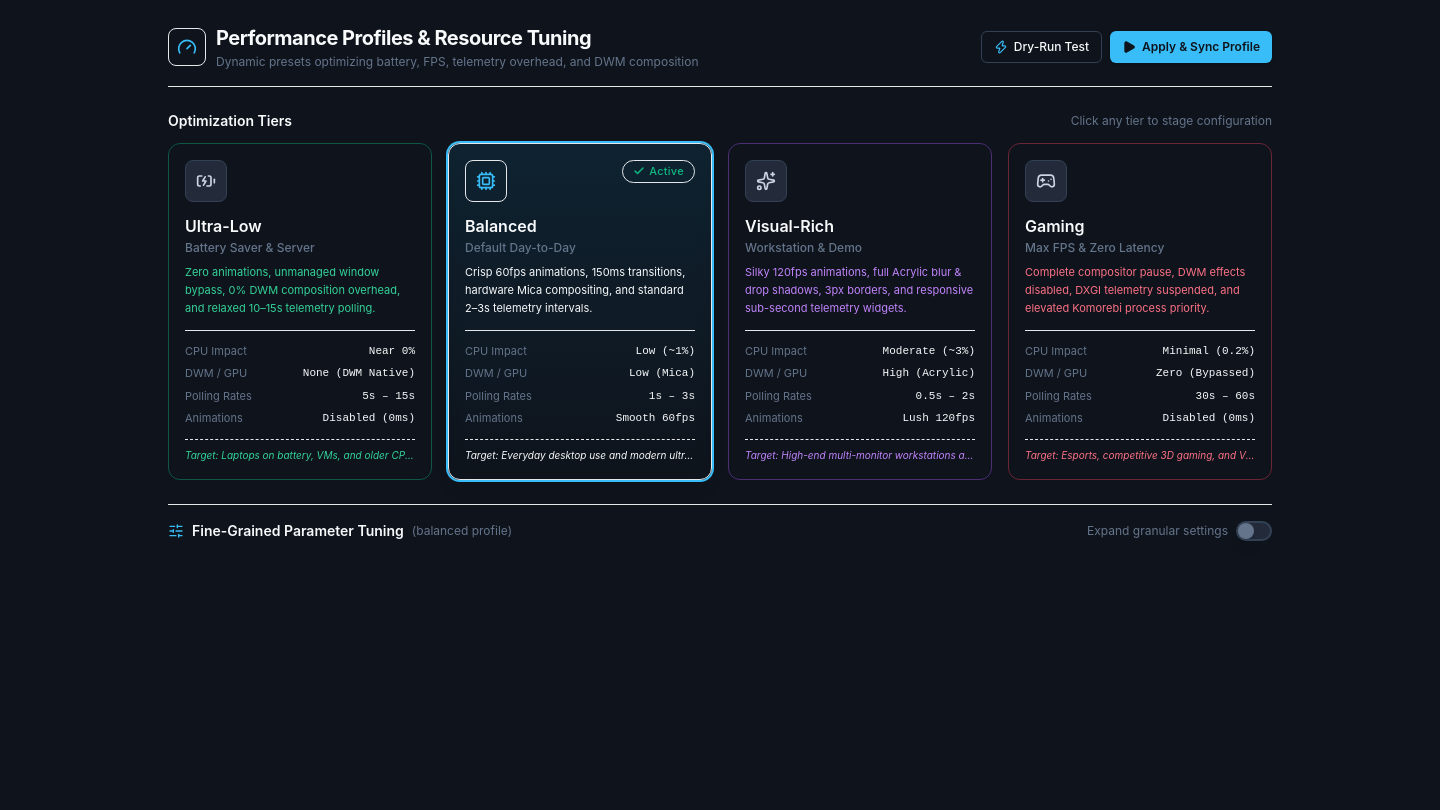
Test: PerformanceView Component › handles apply failure response
Click the button "Apply & Sync Profile": (1191, 47) x1=1110 y1=31 x2=1272 y2=63
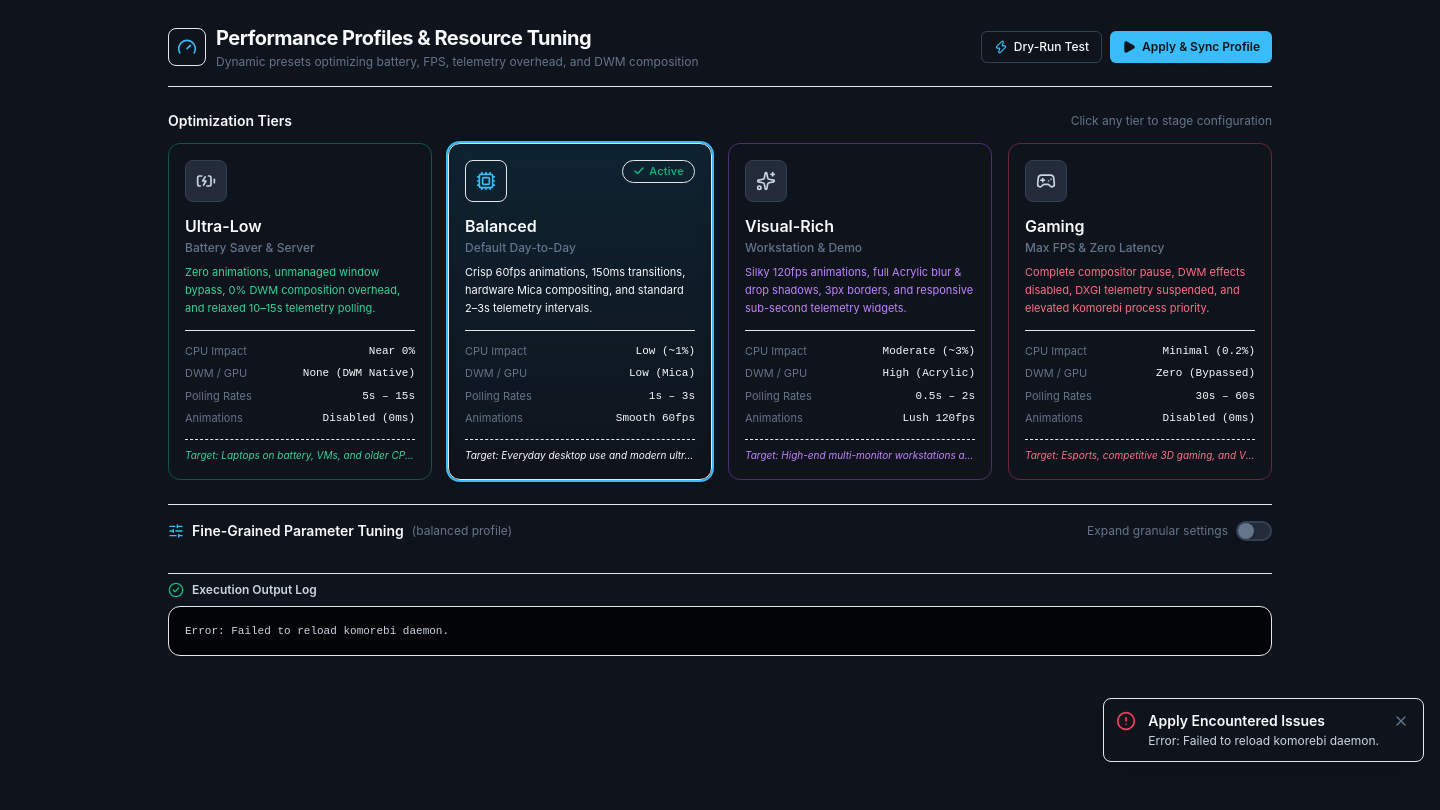
Expected: the text "Execution Output Log" is shown, x1=168 y1=582 x2=317 y2=598
